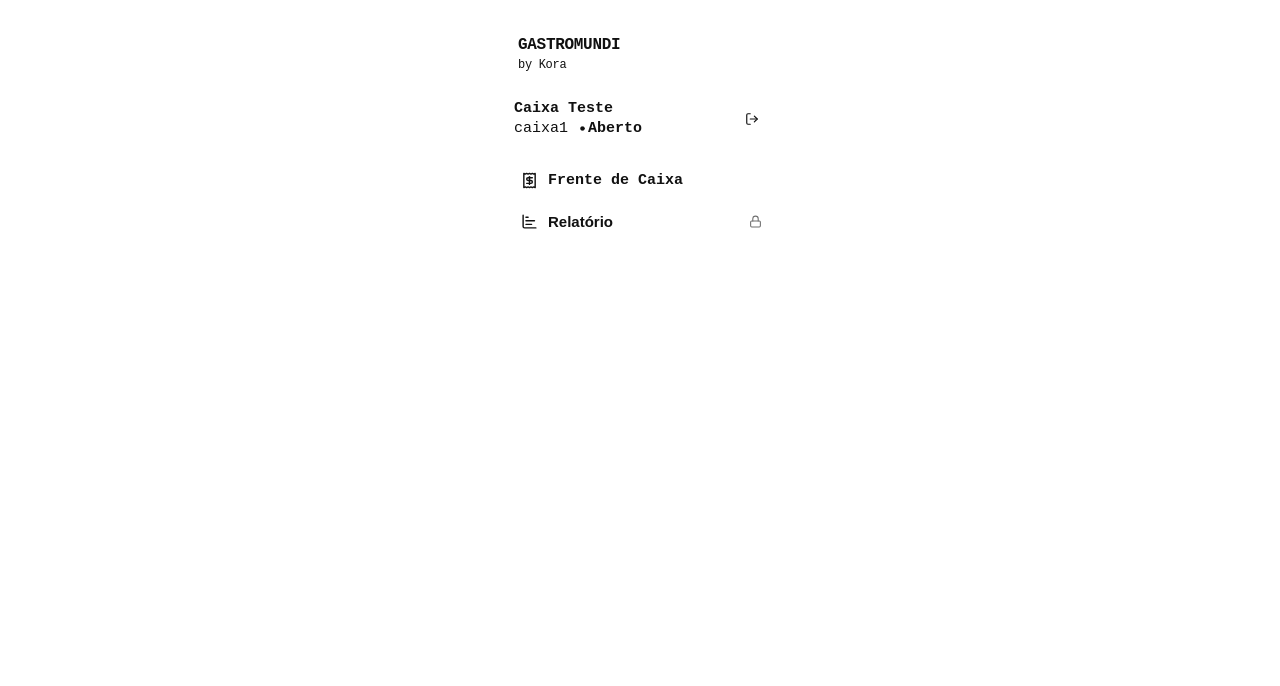
it: Sidebar, relatório pede senha para quem não tem a permissão › o caixa sem permissão de relatório vê a janela de acesso restrito
Click the button "Relatório". click: (581, 222)
box: [498,201,782,242]
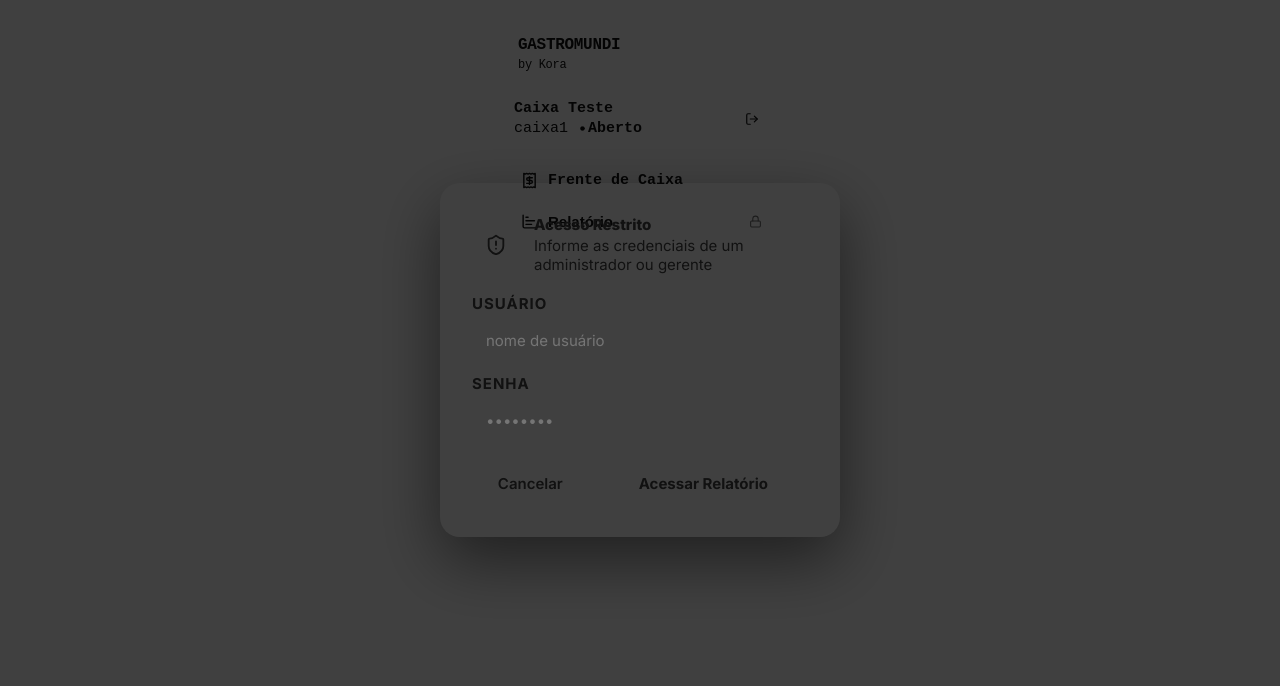
Result: the text "Acesso Restrito" is shown at [534,215,651,234]
Result: the field with placeholder "nome de usuário" is shown at [472,319,808,362]
